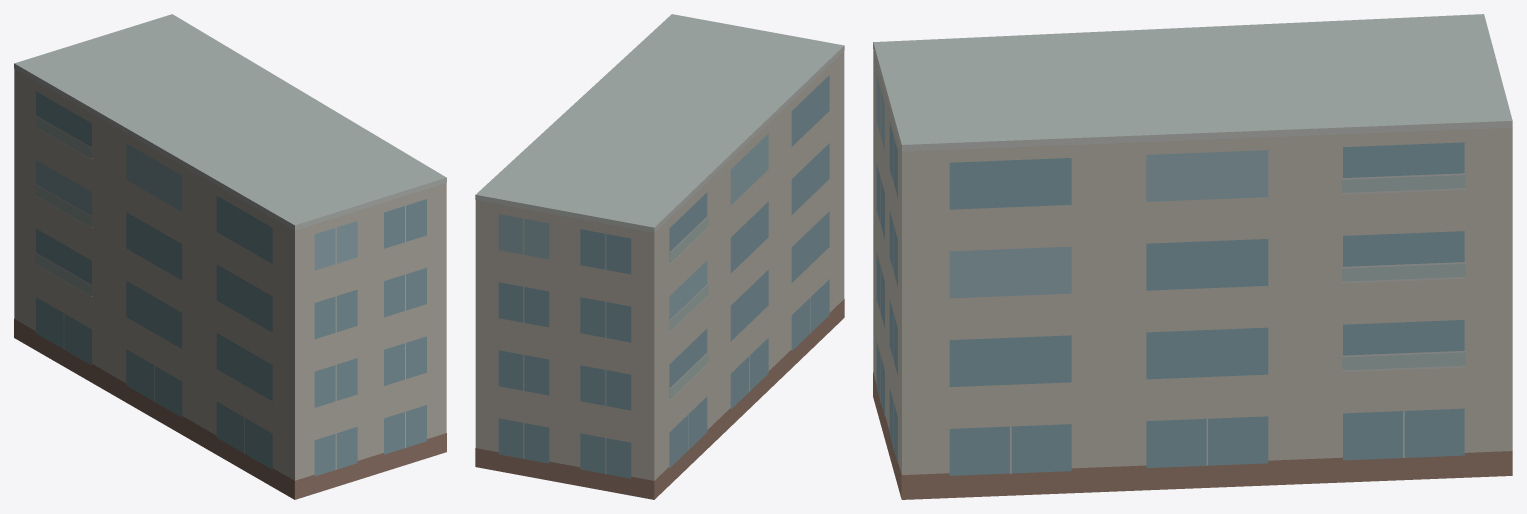
The model's file is survey-upis-32718711.glb.
3 views of the same model, side by side, from view 1: azimuth 30°, elevation 25°; view 2: azimuth 150°, elevation 25°; view 3: azimuth 270°, elevation 25° (orthographic). The views are drawn at different scales.
Visible parts, largest first — view 1: survey-upis-32718711.tmp; view 2: survey-upis-32718711.tmp; view 3: survey-upis-32718711.tmp.
Boxes of the visible parts, x1,y1,x2,y2 form: survey-upis-32718711.tmp: (14, 14, 446, 499); survey-upis-32718711.tmp: (475, 14, 844, 499); survey-upis-32718711.tmp: (873, 14, 1512, 499).
Bounding box in the file's own units: 10.21 × 12.9 × 21.07.
